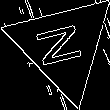N_E: (34, 20, 92, 72)
